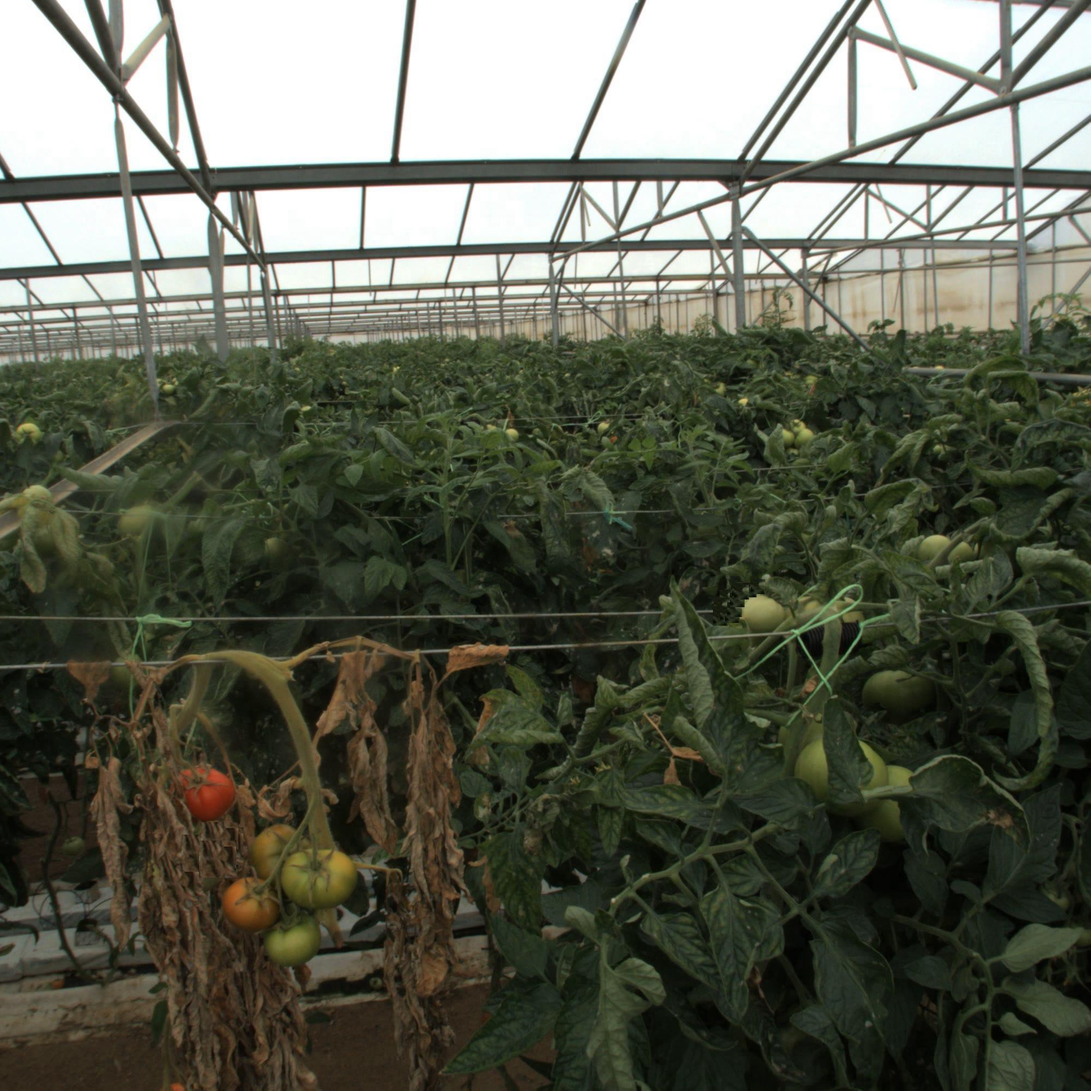fully-ripe: (177, 766, 232, 821)
semi-ripe: (221, 876, 281, 936), (253, 826, 308, 881)
unripe: (798, 733, 885, 820), (856, 769, 933, 847), (860, 664, 929, 733), (284, 845, 352, 914), (269, 914, 320, 964), (742, 595, 784, 636)
